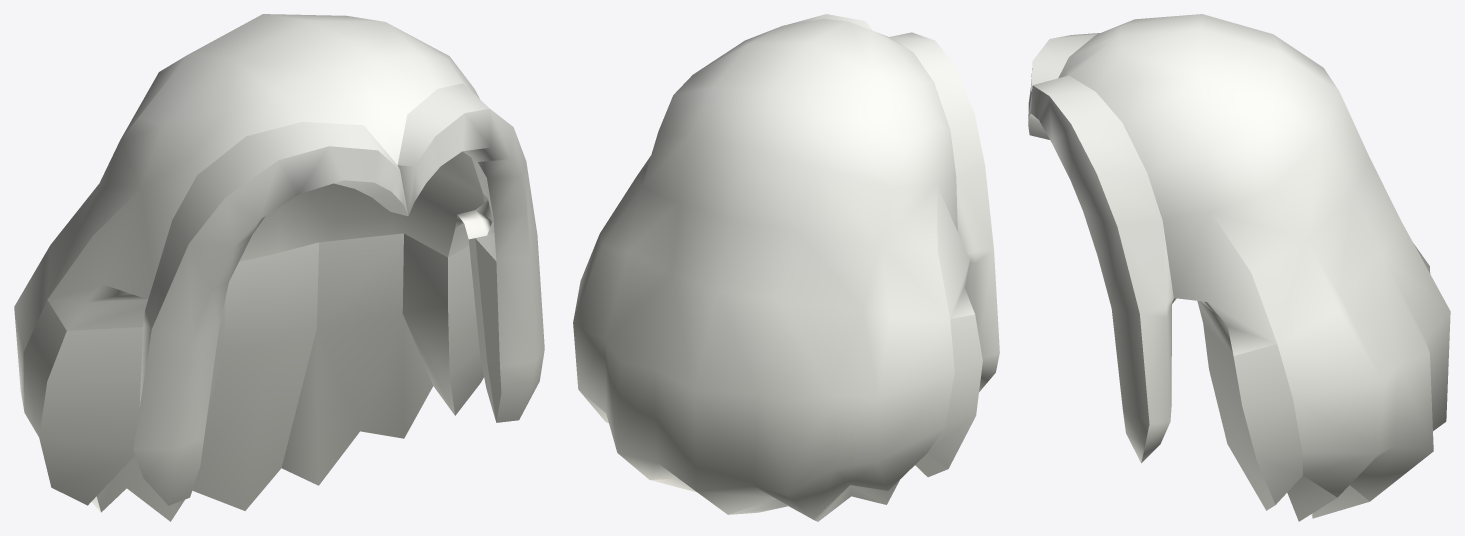
File: Hair_White_10.fbx
3 views of the same model, side by side, from view 1: azimuth 30°, elevation 25°; view 2: azimuth 150°, elevation 25°; view 3: azimuth 270°, elevation 25° (orthographic). The views are drawn at different scales.
Visible parts, largest first — view 1: Hair_White_10; view 2: Hair_White_10; view 3: Hair_White_10.
Part boxes in pixels (x1,y1,x2,y2): Hair_White_10: [14, 14, 544, 521]; Hair_White_10: [573, 14, 999, 521]; Hair_White_10: [1028, 14, 1450, 521].
Bounding box in the file's own units: 74.41 × 80.17 × 66.04.
